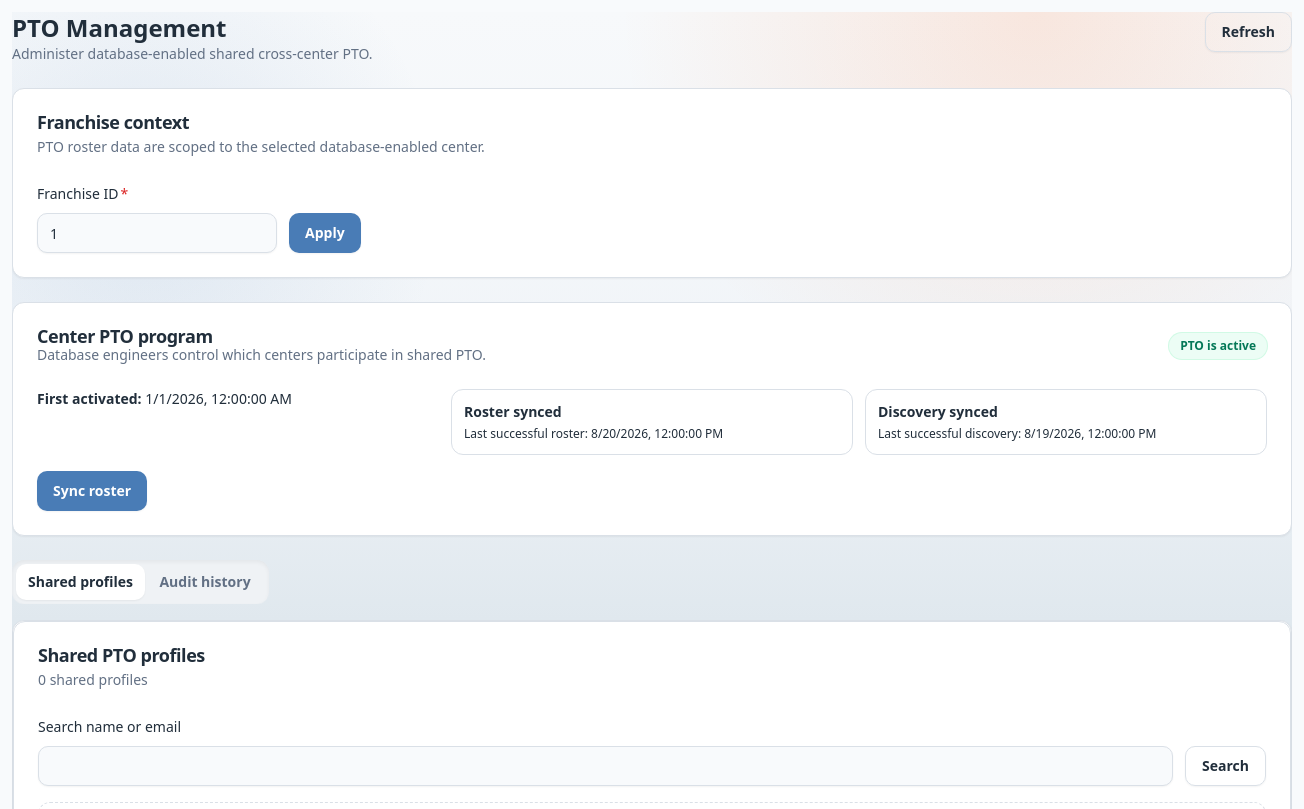
Test case: PTO management › marks loaded PTO data stale when a different franchise is selected
Expected: the text "PTO is active" is shown, [1169, 333, 1267, 359]
Step 1. Replace the text in the field labelled "Franchise ID*" with "77" → (157, 233), box [37, 213, 277, 253]
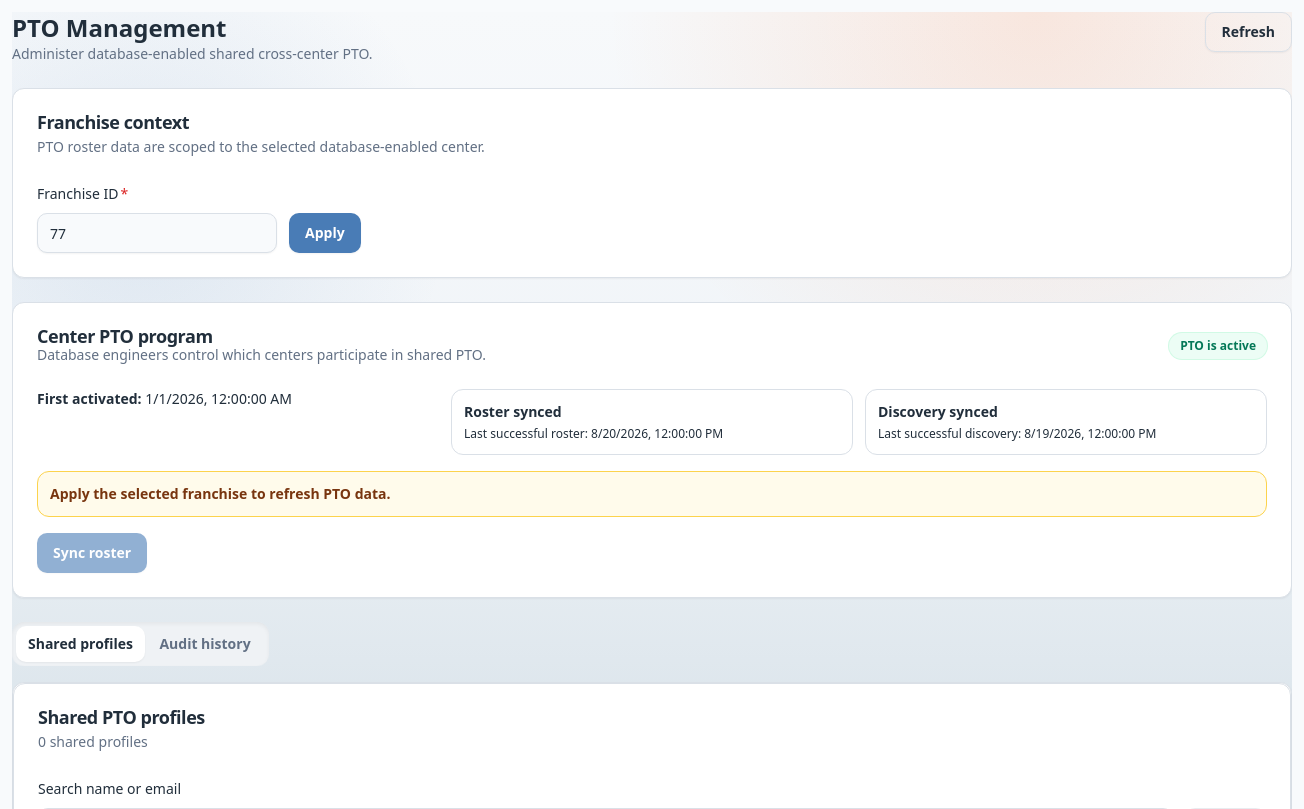
Expected: the text "Apply the selected franchise to refresh PTO data." is shown, [37, 471, 1267, 517]
Expected: the button "Sync roster" is disabled, [37, 533, 147, 573]
